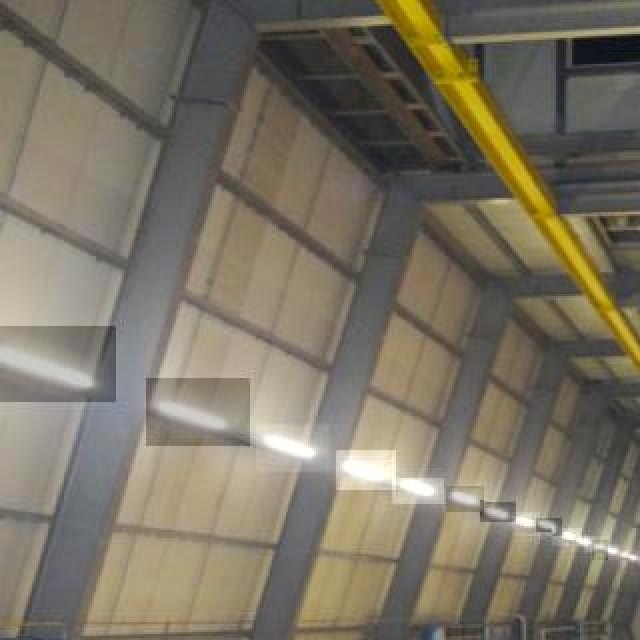fluorescent tube: (0, 342, 96, 400), (155, 393, 240, 435), (261, 431, 323, 469), (389, 468, 446, 508), (340, 456, 396, 488)
